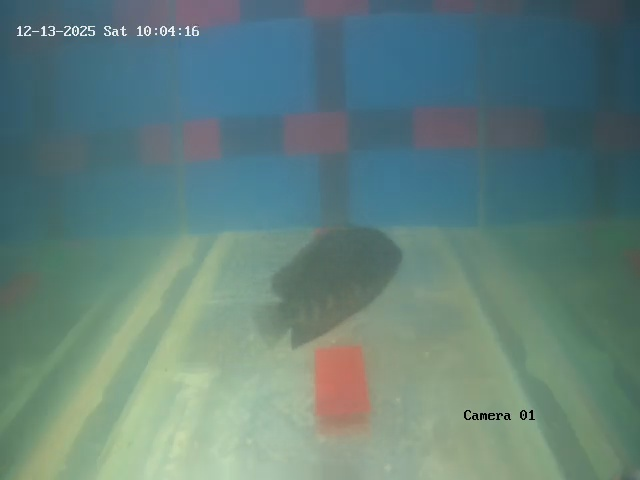fish: (278, 204, 409, 361)
